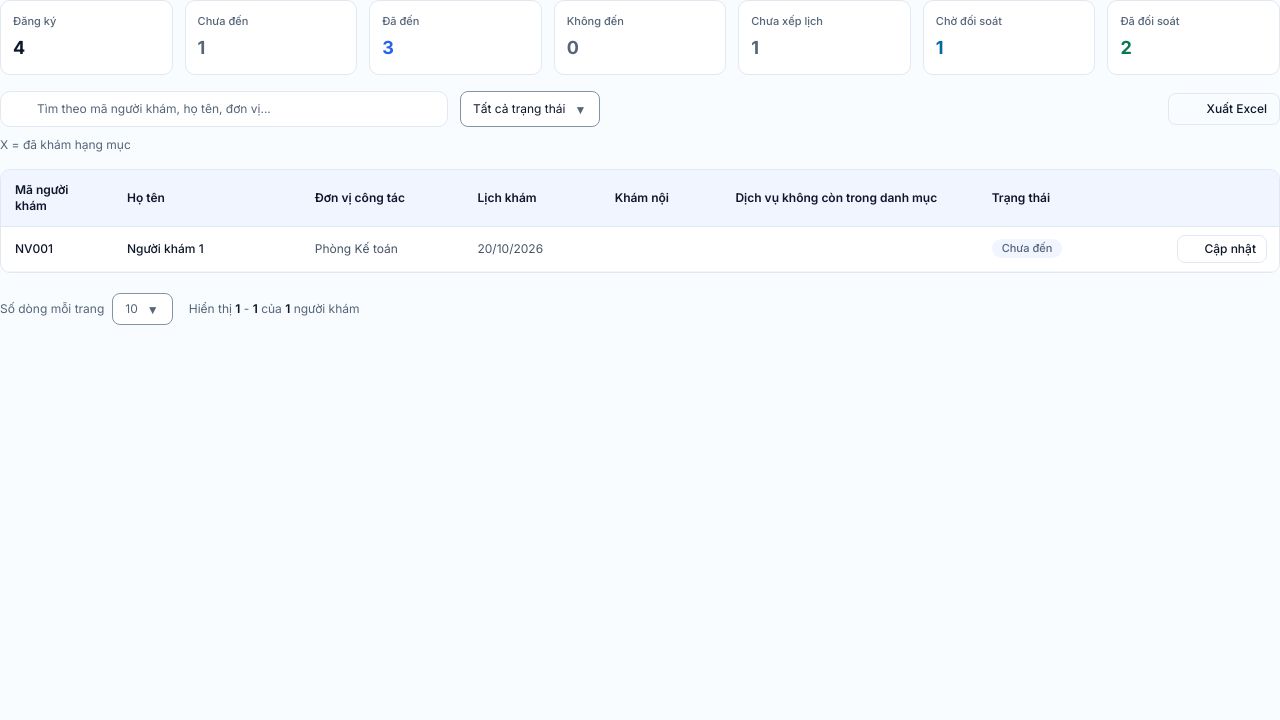
it: ExaminationDetailTab › offers the manual entry only with the record permission and while the agreement accepts changes
Check: the text "Người khám 1" is shown, box [113,226,301,271]
Step 1. Click the button with aria-label "Cập nhật chi tiết khám của Người khám 1" → click(1222, 248), box [1177,234,1267,262]
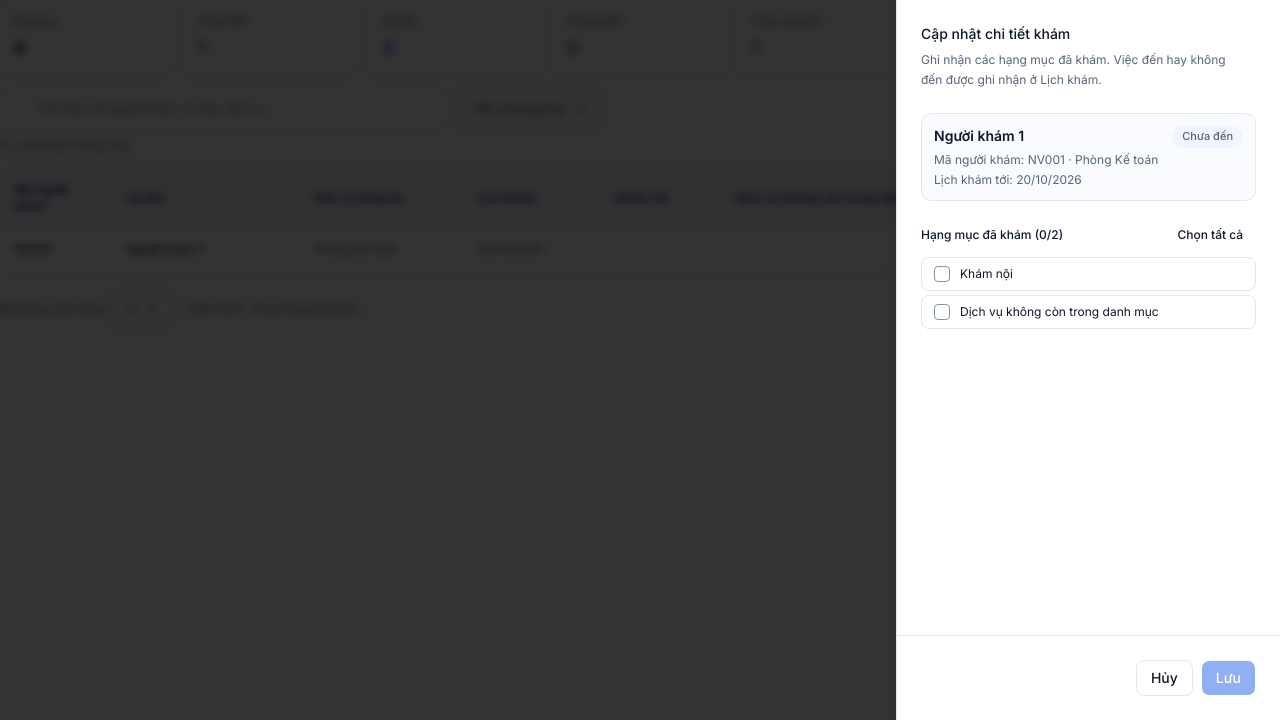
Check: the 1st checkbox named "Khám nội" is shown, box [934,266,950,282]
